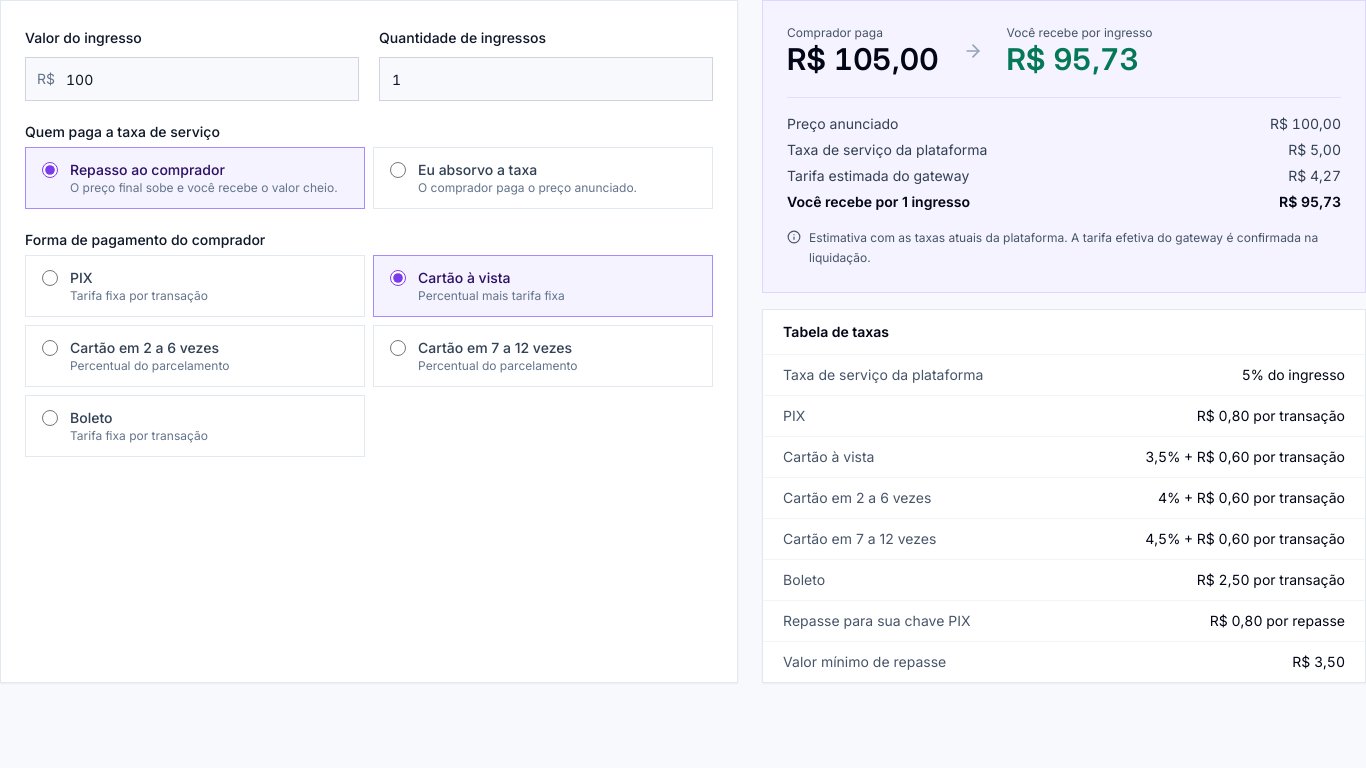
it: FeeCalculator › projects the total for the number of tickets typed
Expected: the text with test id "calculator-organizer-receives" reads "R$ 95,73", [1006,41,1139,77]
Replace the text in the number field labelled "Quantidade de ingressos" with "50" at (546, 79), box [379,57,713,101]
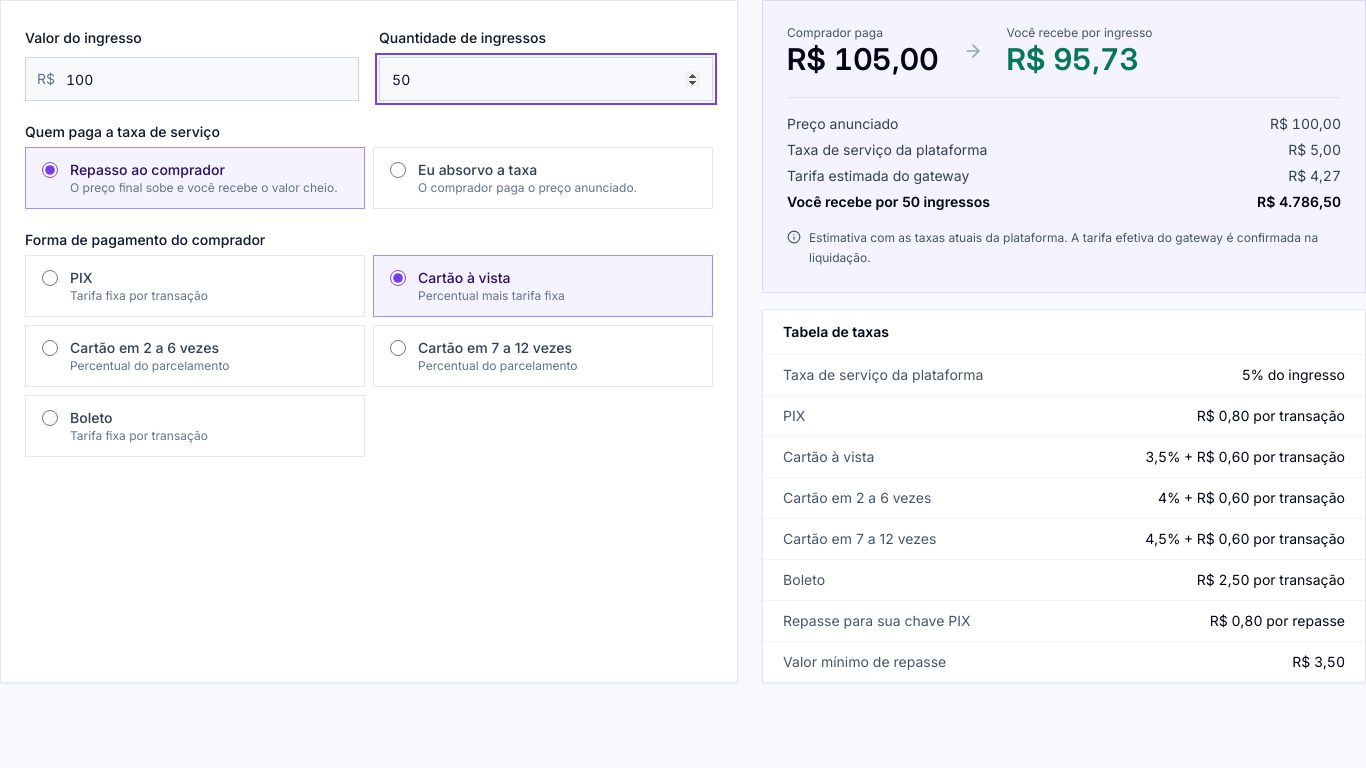
Expected: the text with test id "calculator-total-receives" reads "R$ 4.786,50", [1257,193,1341,210]
